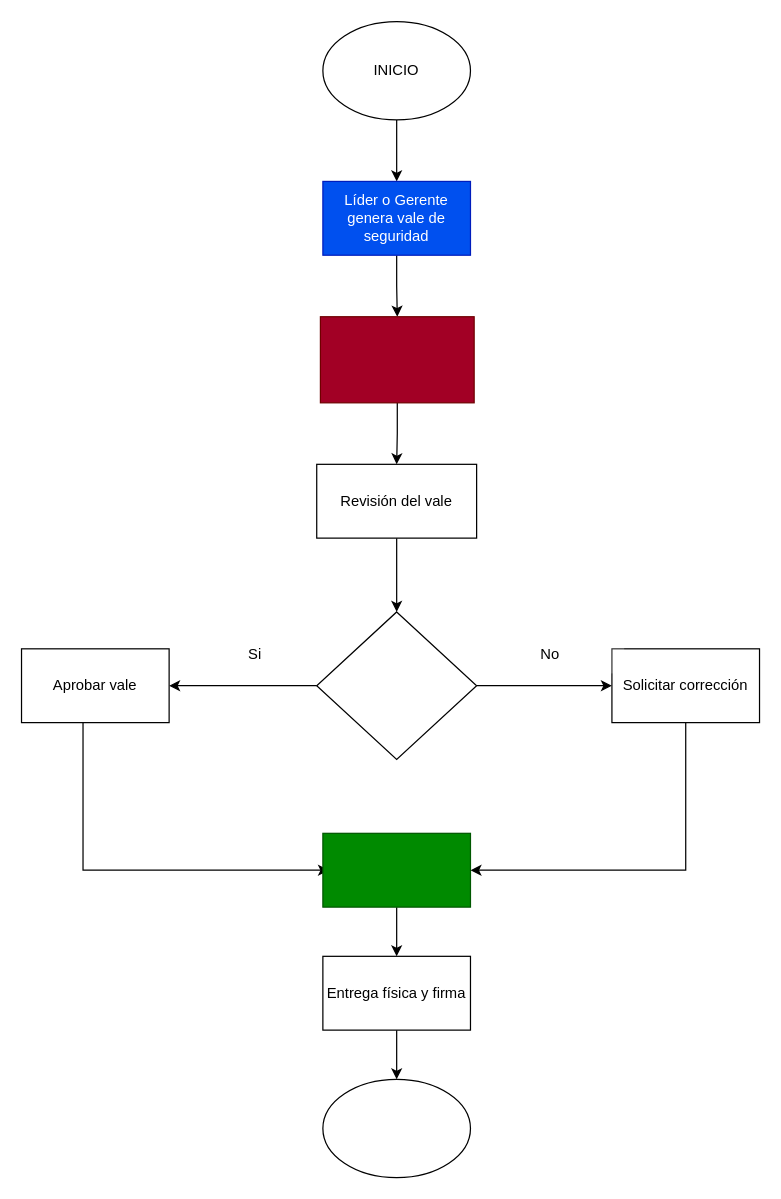
This 781x1199 diagram has some shape labels left out. Each missing label, with the centre of its shape:
Fin: [396,1128]
Vale enviado al encargado de productos de seguridad (Almacén EPP): [396,359]
Vale pasa al Almacén General: [396,869]
¿Productos disponibles y solicitud válida?: [396,685]
